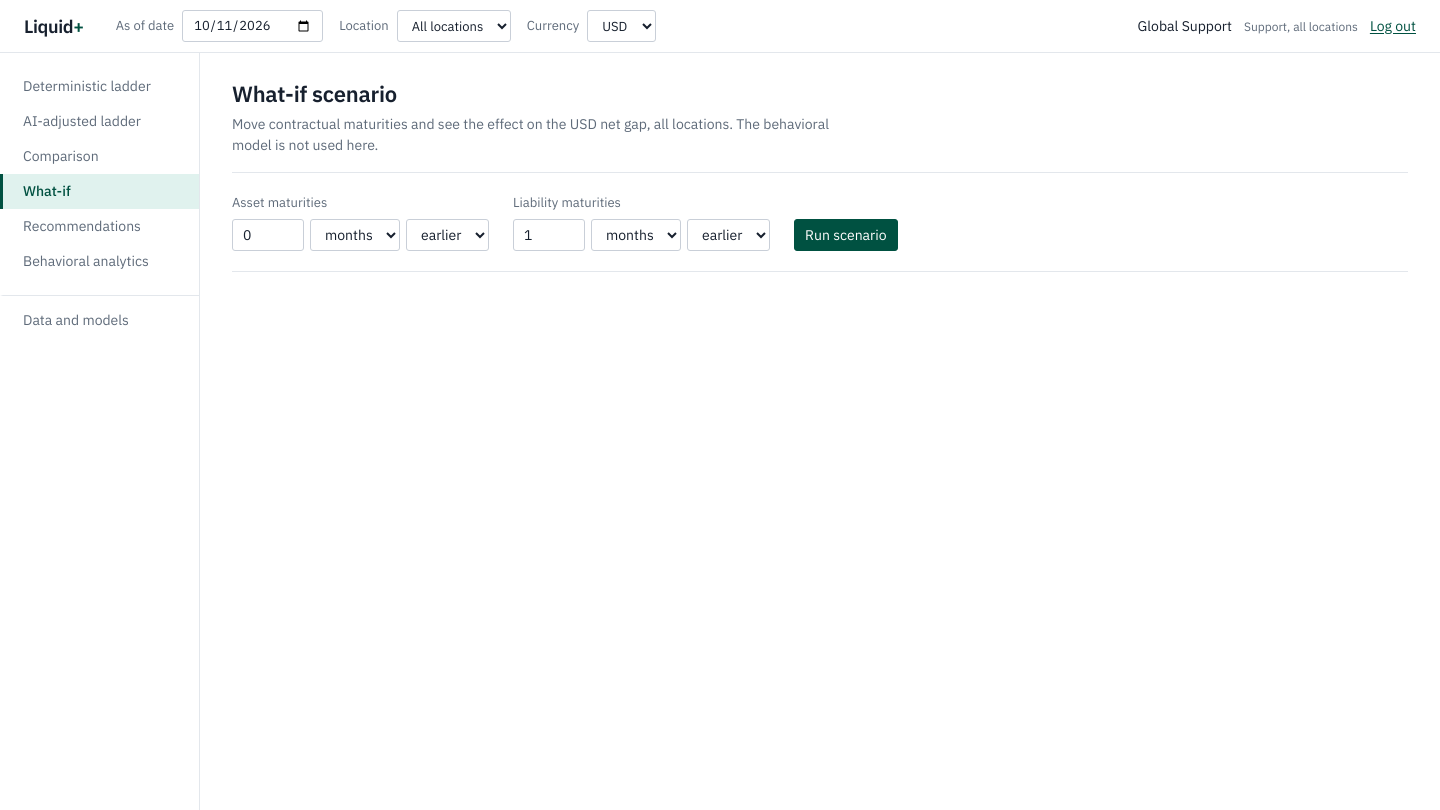
what-if runs a scenario
Click the button "Run scenario". click: (846, 234)
box: [794,218,898,250]
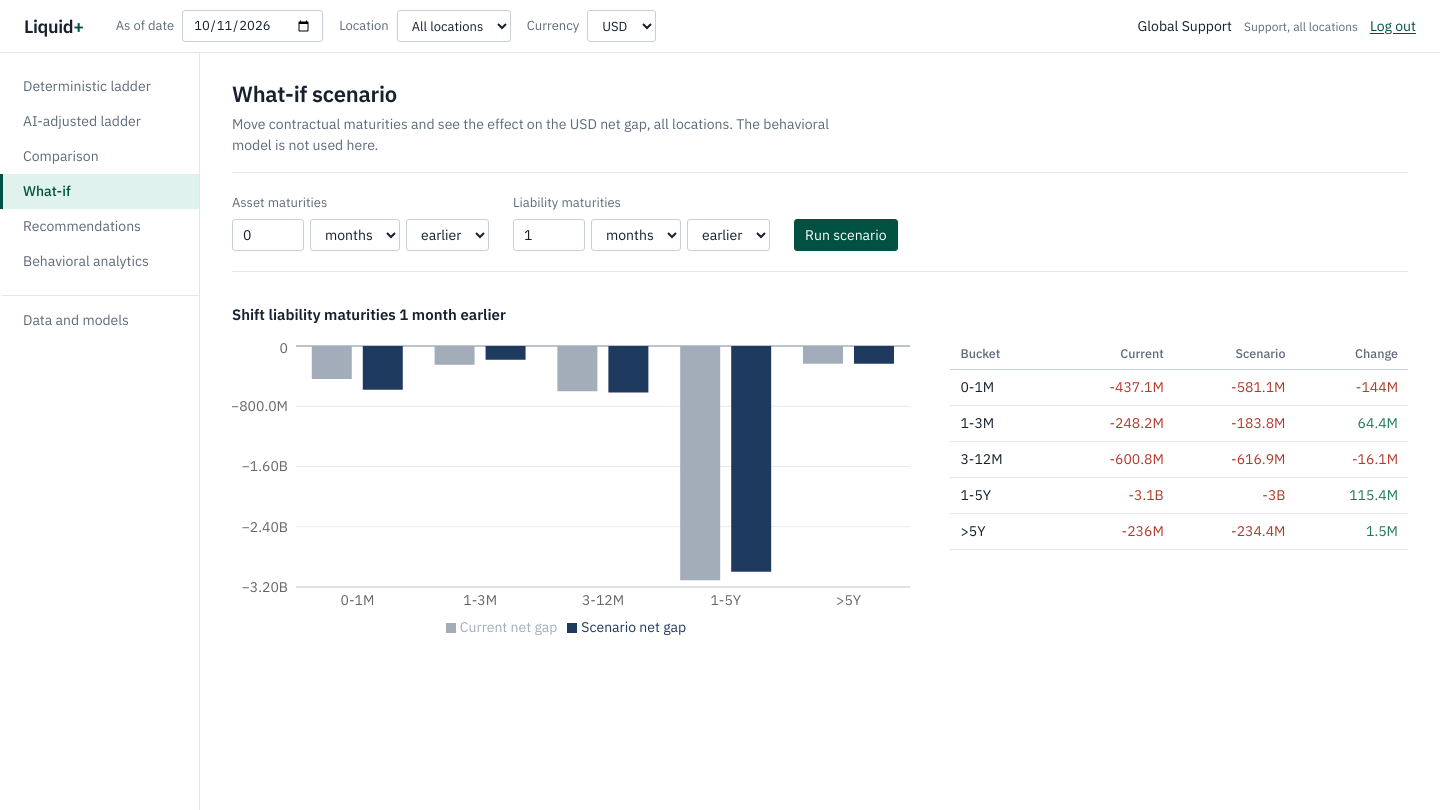
Expected: the heading "Shift liability maturities 1 month earlier" is shown, [232,304,506,324]
